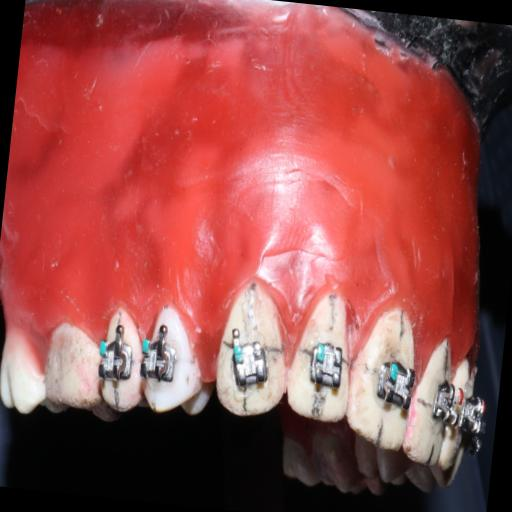incorrect_brace: (284, 291, 360, 425), (228, 333, 274, 390), (306, 342, 347, 388)
